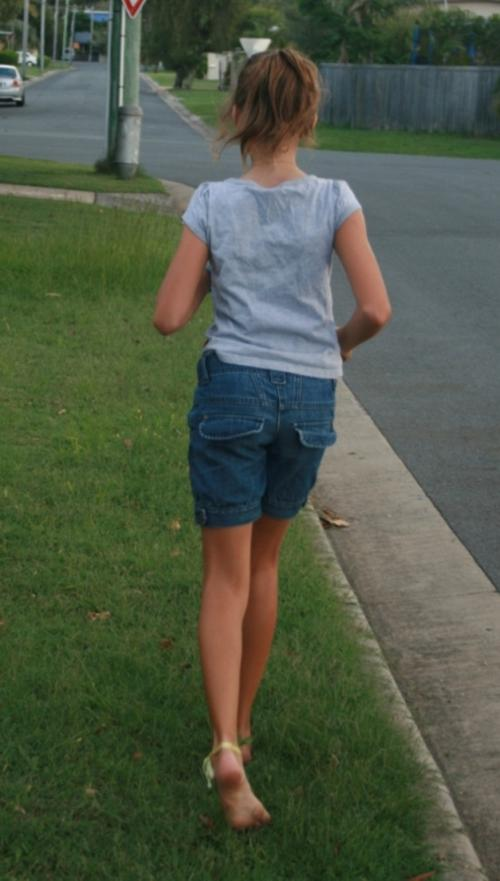person: (152, 33, 391, 846)
